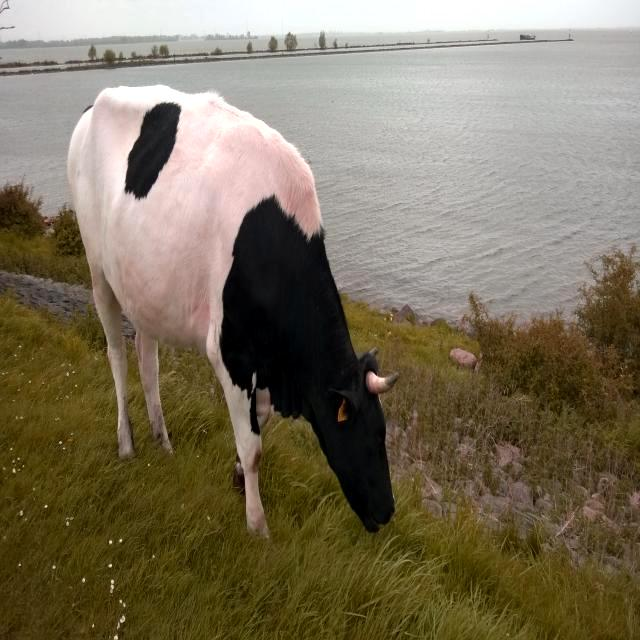COW: (68, 84, 395, 535)
